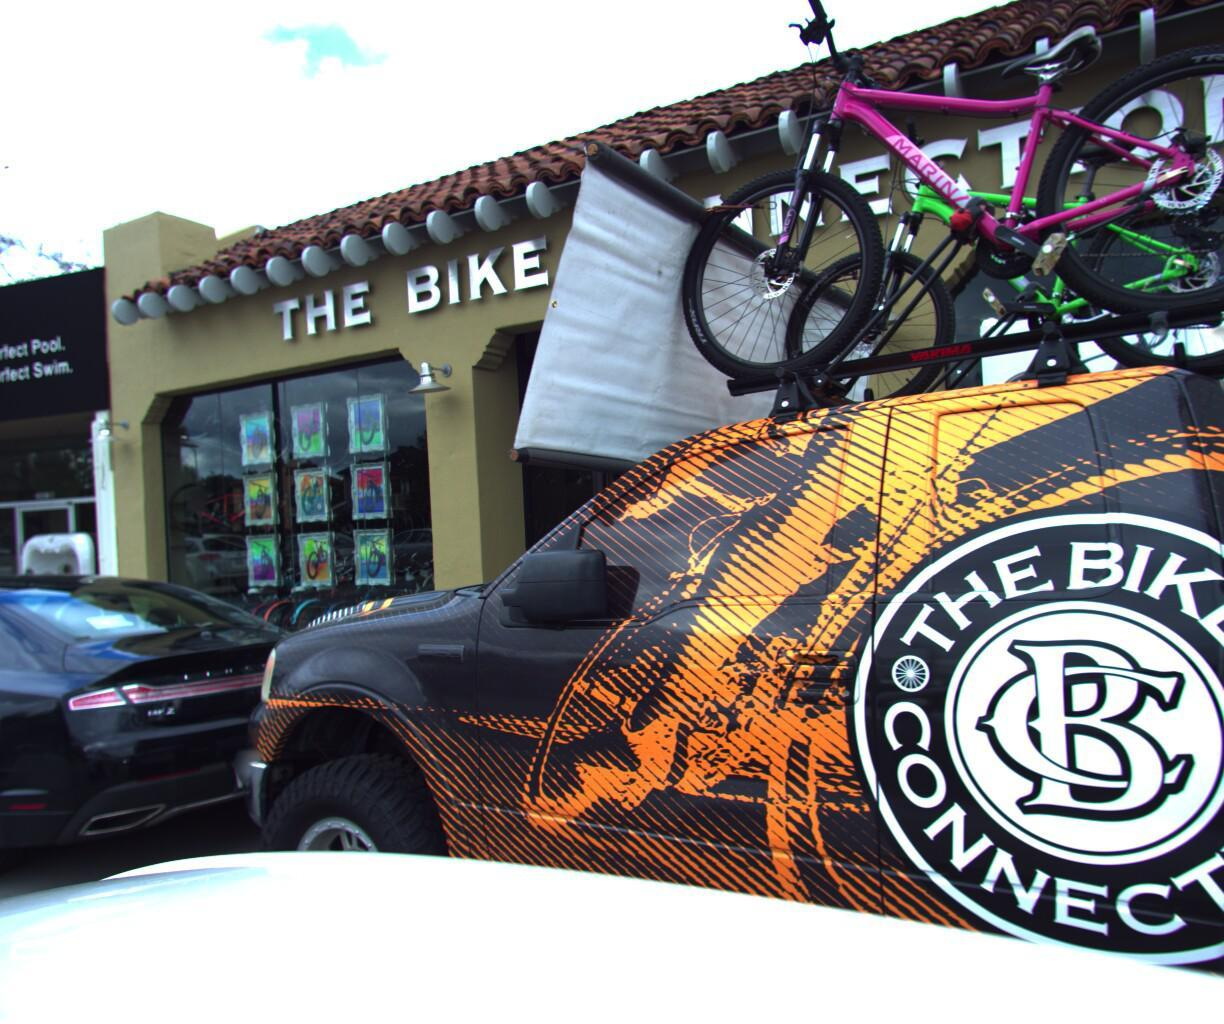car: (100, 0, 1224, 1024), (0, 540, 382, 963)
